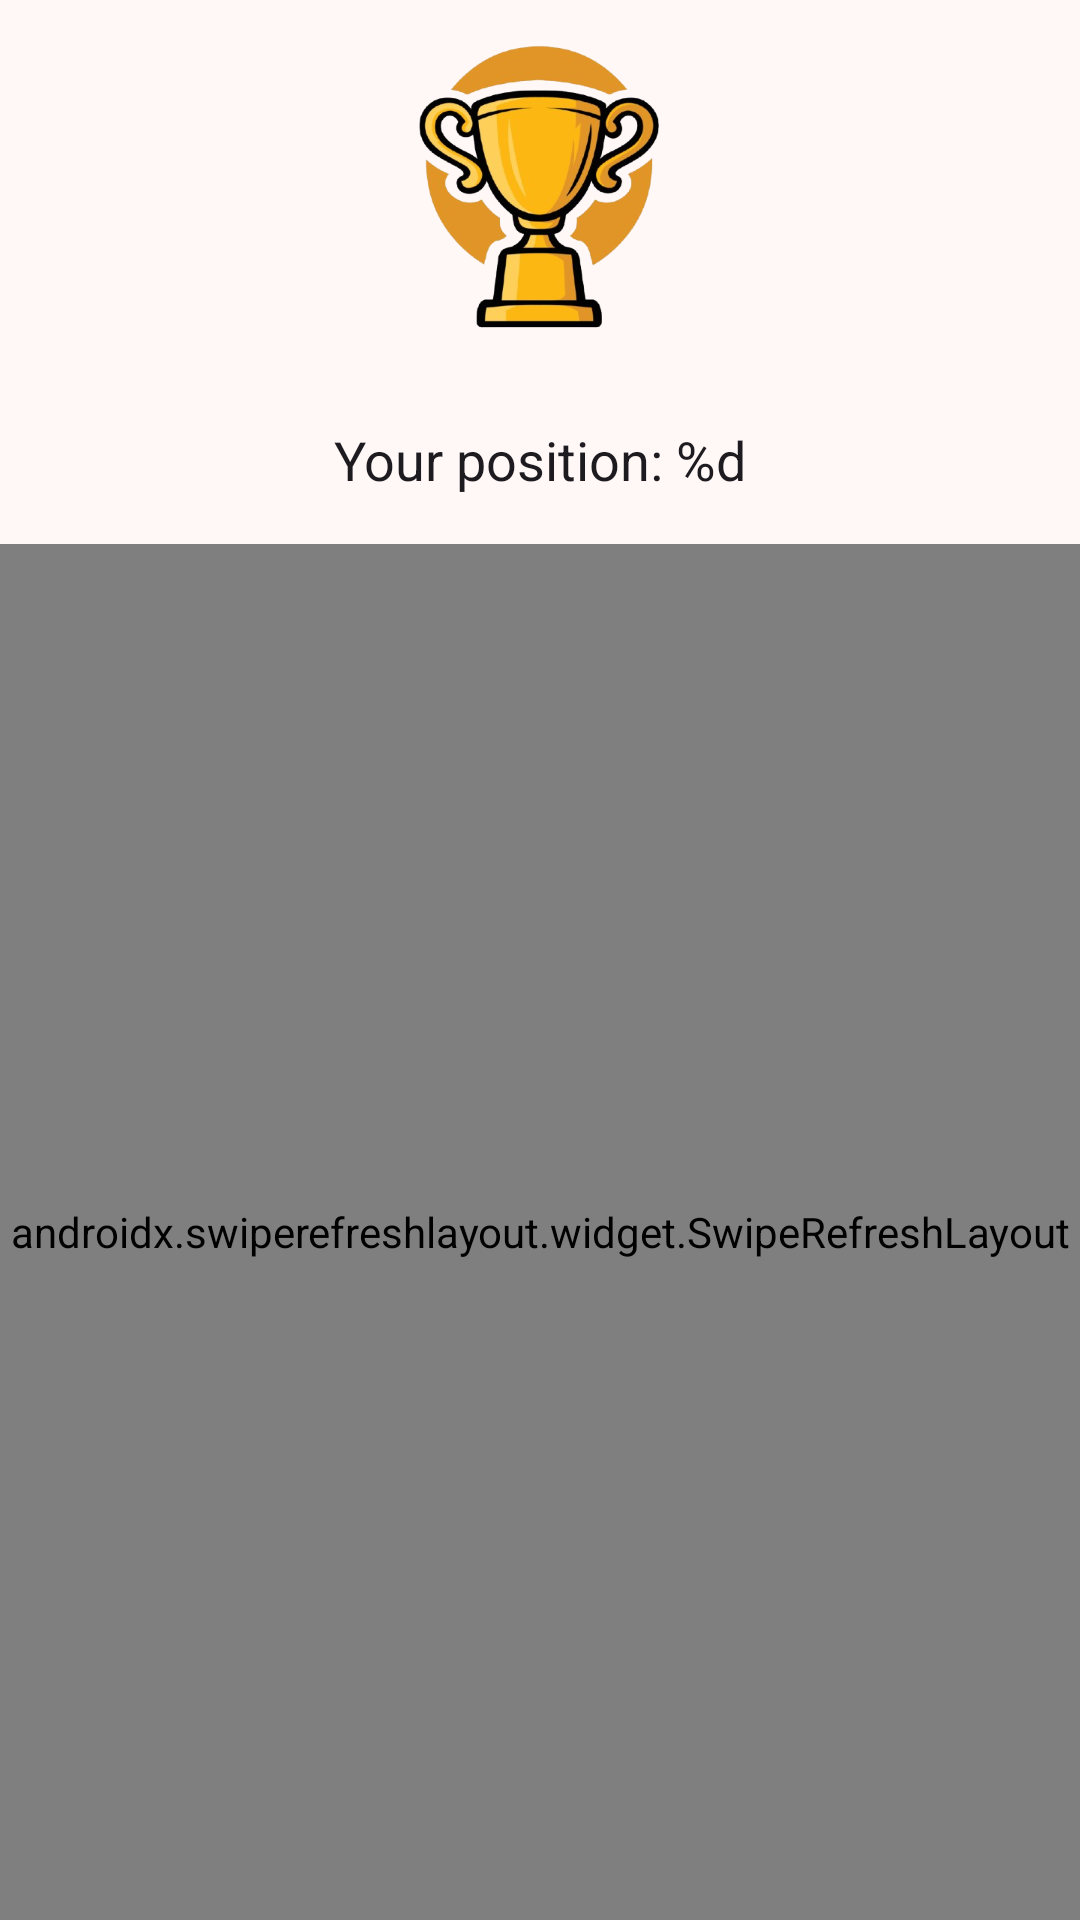

Where to tap for icons on this 1080x1920 app screen, as (x=x, y=y):
Trophy Icon: (x=539, y=187)
